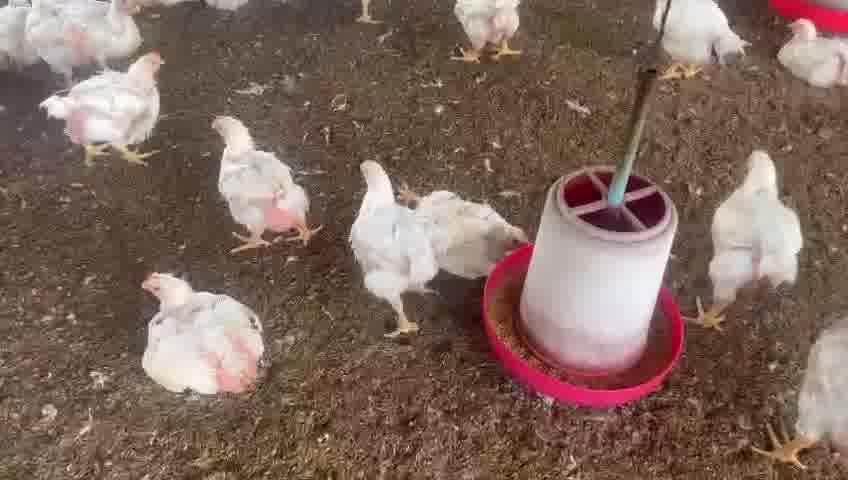AbNormal: (138, 271, 265, 395), (400, 177, 531, 266), (778, 18, 848, 86)
Normal: (696, 147, 798, 328), (350, 158, 441, 335), (206, 117, 316, 250), (50, 48, 170, 169), (756, 318, 847, 467), (37, 0, 140, 87), (653, 3, 744, 79), (448, 1, 526, 66)
